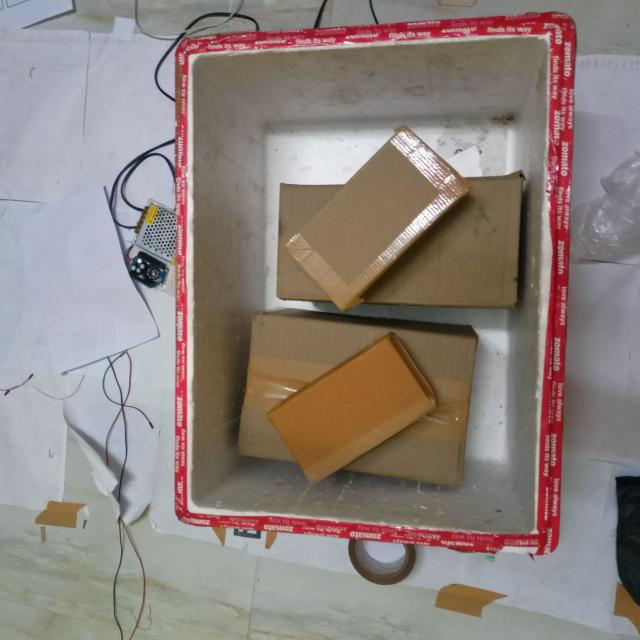box: (292, 128, 461, 304), (277, 340, 431, 483)
